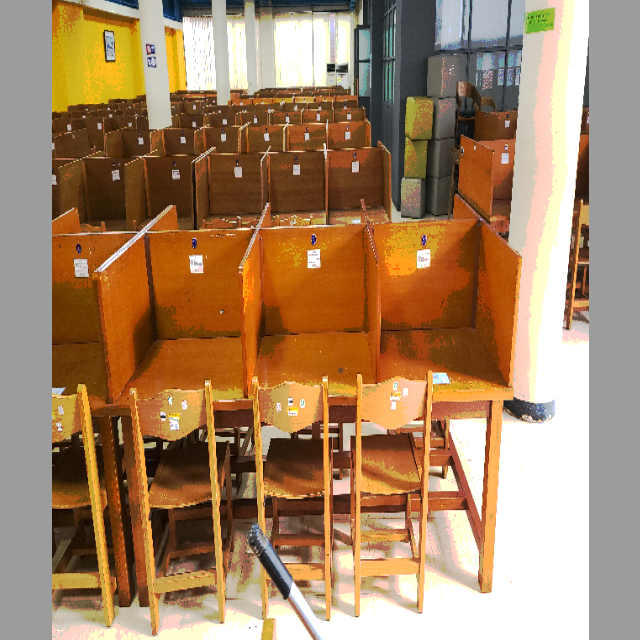empty: (247, 227, 385, 500), (391, 227, 520, 497), (95, 239, 243, 456)
